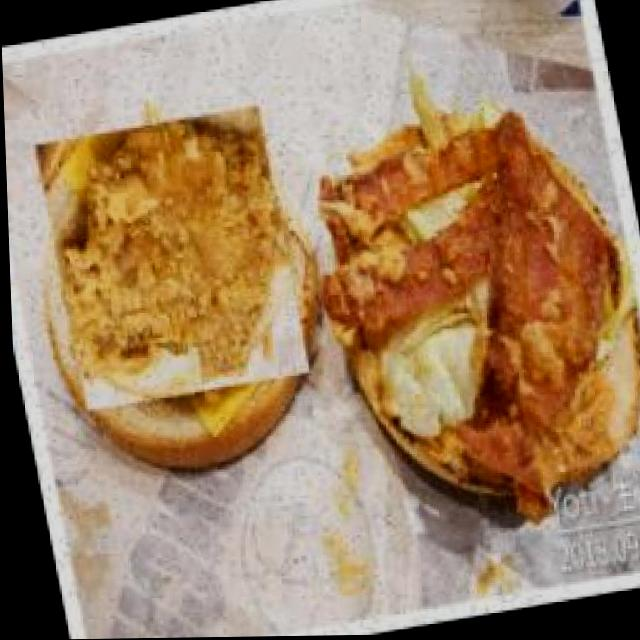fried_chicken: (33, 107, 310, 413)
